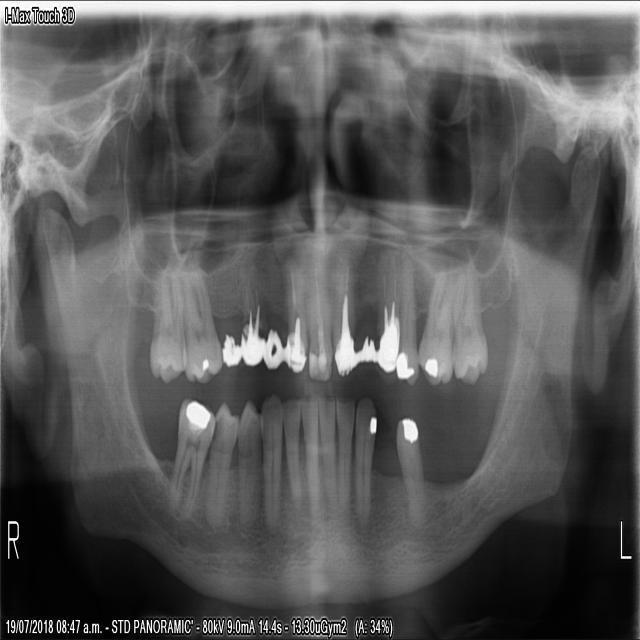LID: (334, 393, 354, 523), (317, 389, 335, 519)
LMU: (414, 264, 457, 386), (450, 256, 488, 387)
LPMD: (352, 391, 377, 532), (395, 412, 423, 536)
LPMU: (392, 244, 419, 389)
RCD: (258, 386, 281, 537)
RID: (279, 392, 301, 512), (300, 389, 318, 520)
RIU: (305, 249, 332, 383)
RMD: (168, 393, 215, 520)
RMU: (174, 253, 223, 387), (146, 255, 186, 388)
RPMD: (202, 396, 240, 538), (235, 395, 261, 535)
